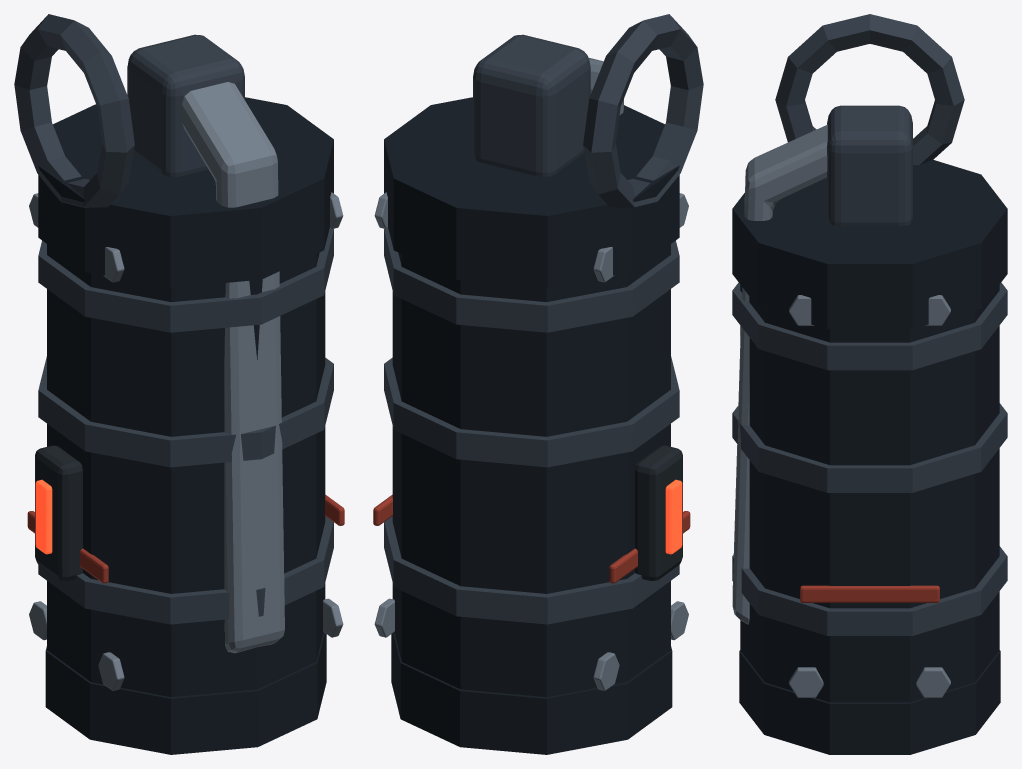
File: grenade.glb
3 views of the same model, side by side, from view 1: azimuth 30°, elevation 25°; view 2: azimuth 150°, elevation 25°; view 3: azimuth 270°, elevation 25° (orthographic). The views are drawn at different scales.
Visible parts, largest first — view 1: grenade; view 2: grenade; view 3: grenade.
Part boxes in pixels (x1,y1,x2,y2): grenade: [14, 14, 344, 754]; grenade: [373, 14, 703, 754]; grenade: [732, 14, 1007, 754].
Bounding box in the file's own units: 0.1169 × 0.29 × 0.1132.
